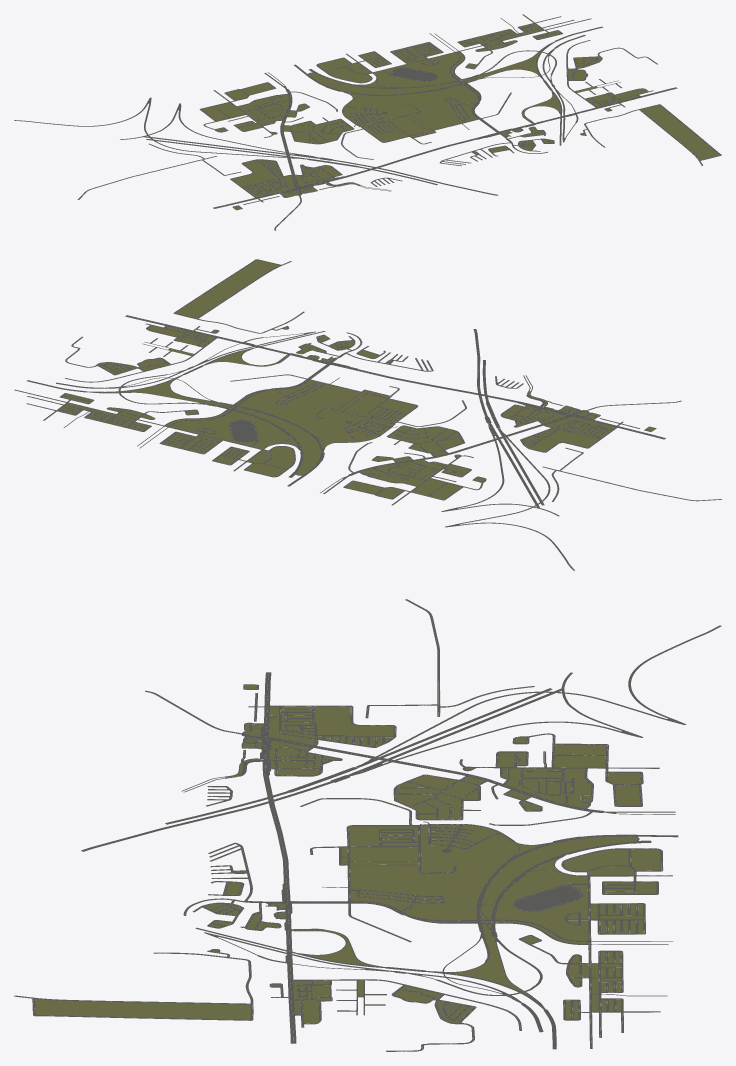
Rendered from centerroad.fbx.
The picture shows the model from 3 angles, top to bottom: view 1: azimuth 30°, elevation 25°; view 2: azimuth 150°, elevation 25°; view 3: azimuth 270°, elevation 25°; orthographic projection. The views are drawn at different scales.
Parts seen in each view (by area): view 1: Terrain, Roads; view 2: Terrain, Roads; view 3: Terrain, Roads.
Boxes of the visible parts, left/top/right/bottom form: Terrain: left=201, top=23, right=719, bottom=209; Roads: left=14, top=14, right=721, bottom=230; Terrain: left=58, top=260, right=655, bottom=499; Roads: left=14, top=259, right=721, bottom=570; Terrain: left=35, top=685, right=660, bottom=1023; Roads: left=14, top=599, right=721, bottom=1051.
Size of the model in its own units: 2695 by 1780 by 0.
